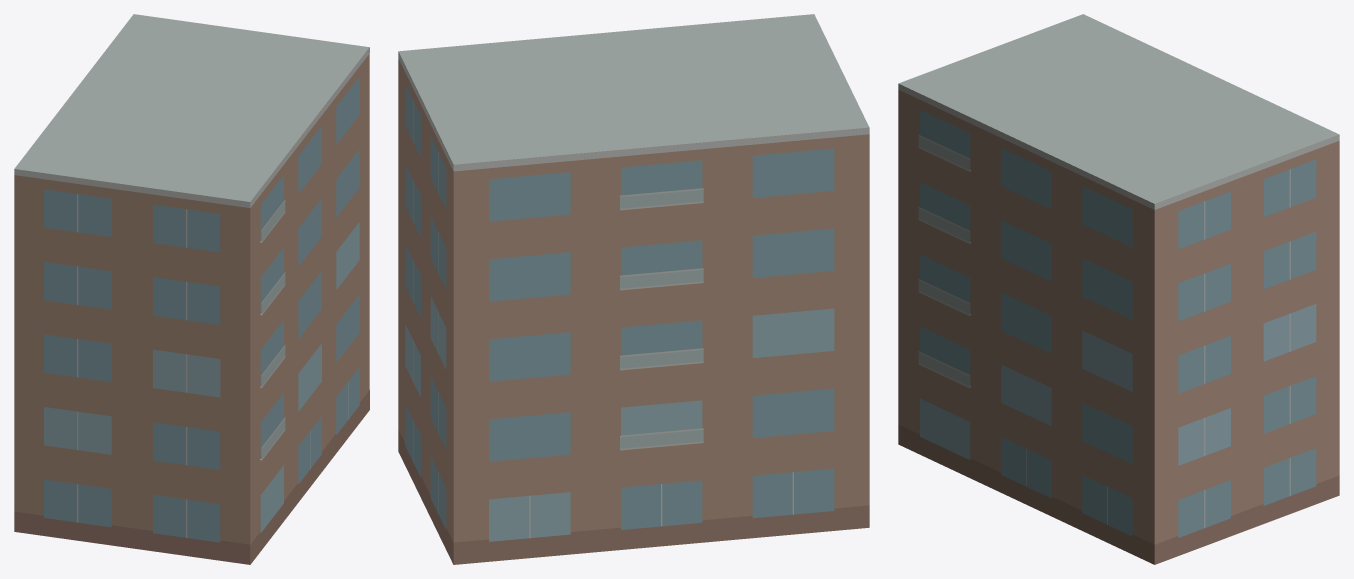
File: survey-upis-32941919.glb
The picture shows the model from 3 angles, left to right: view 1: azimuth 30°, elevation 25°; view 2: azimuth 150°, elevation 25°; view 3: azimuth 270°, elevation 25°; orthographic projection. The views are drawn at different scales.
Parts seen in each view (by area): view 1: survey-upis-32941919.tmp; view 2: survey-upis-32941919.tmp; view 3: survey-upis-32941919.tmp.
Part boxes in pixels (left/top/right/bottom): survey-upis-32941919.tmp: left=14, top=14, right=369, bottom=564; survey-upis-32941919.tmp: left=398, top=14, right=869, bottom=564; survey-upis-32941919.tmp: left=898, top=14, right=1339, bottom=564.
Bounding box in the file's own units: 16.43 × 14.55 × 16.13.
